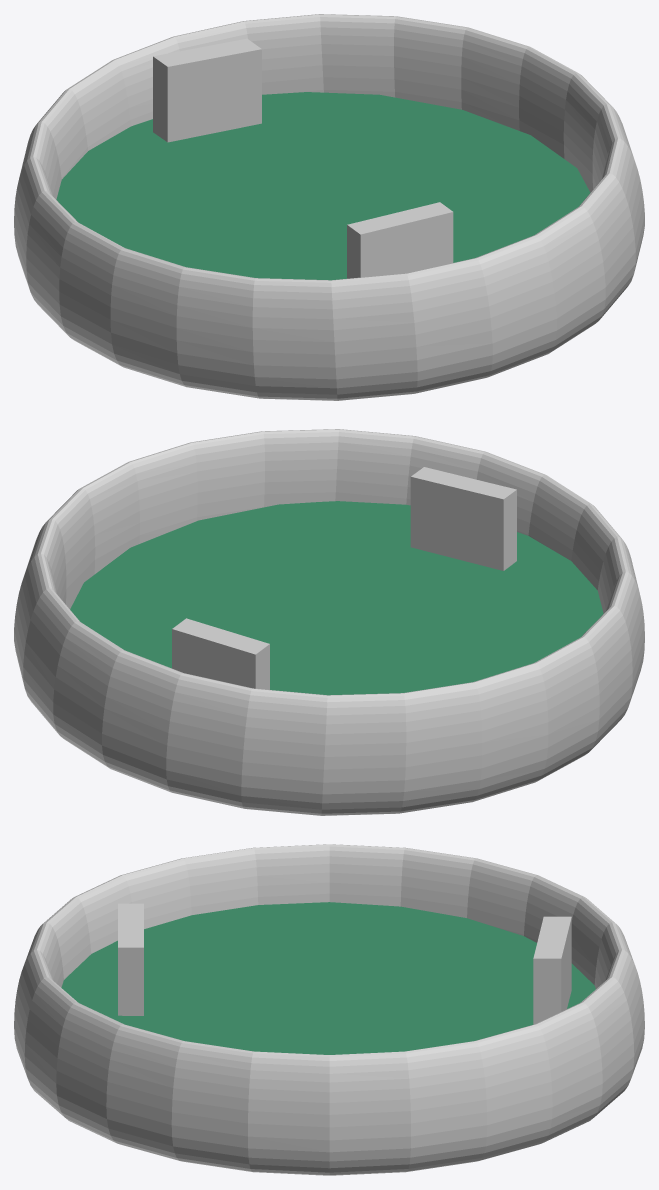
Rendered from Football Stadium.glb.
3 views of the same model, one above another, from view 1: azimuth 30°, elevation 25°; view 2: azimuth 150°, elevation 25°; view 3: azimuth 270°, elevation 25° (orthographic). The views are drawn at different scales.
Visible parts, largest first — view 1: Mesh_Mesh_head_geo.001_lambert2SG.001; view 2: Mesh_Mesh_head_geo.001_lambert2SG.001; view 3: Mesh_Mesh_head_geo.001_lambert2SG.001.
Boxes of the visible parts, box(x1,y1,x2,y2) form: Mesh_Mesh_head_geo.001_lambert2SG.001: box(14, 14, 644, 400); Mesh_Mesh_head_geo.001_lambert2SG.001: box(14, 429, 644, 815); Mesh_Mesh_head_geo.001_lambert2SG.001: box(14, 844, 644, 1175).
Bounding box in the file's own units: 23.26 × 6.09 × 24.3.
